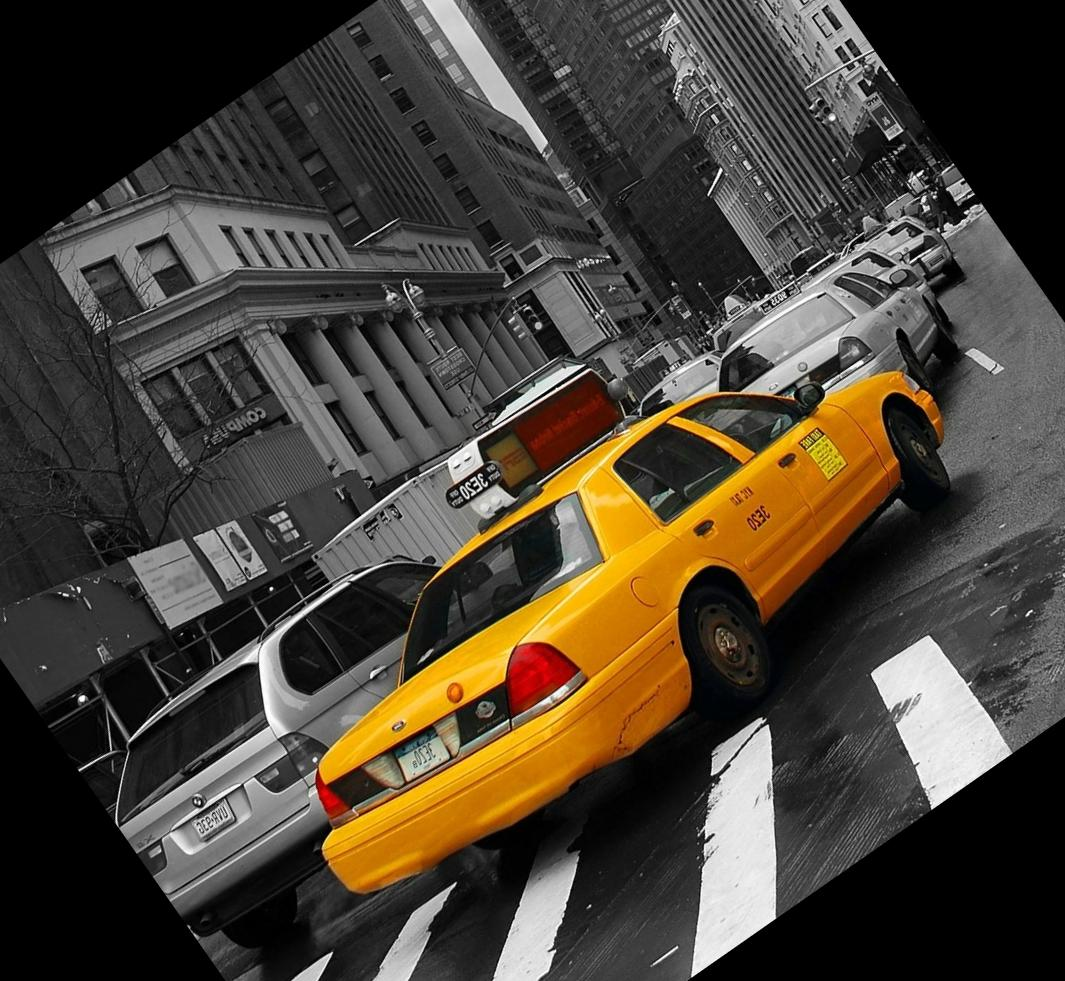taxi: (307, 327, 944, 907)
